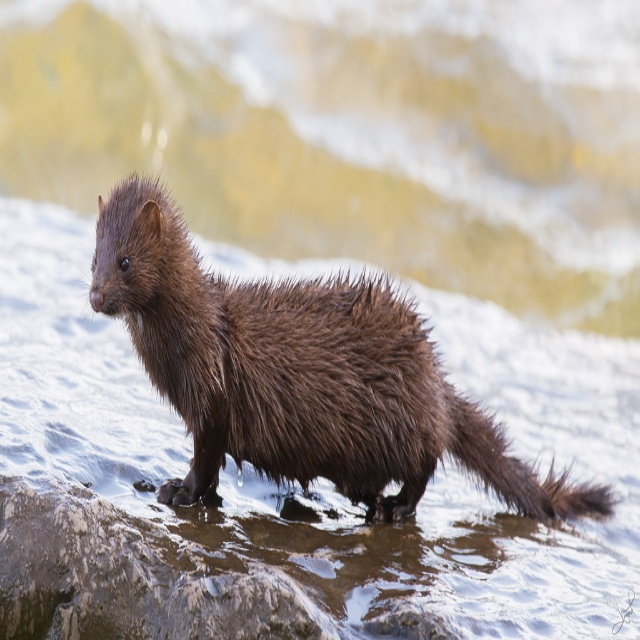Otter: (75, 167, 624, 528)
